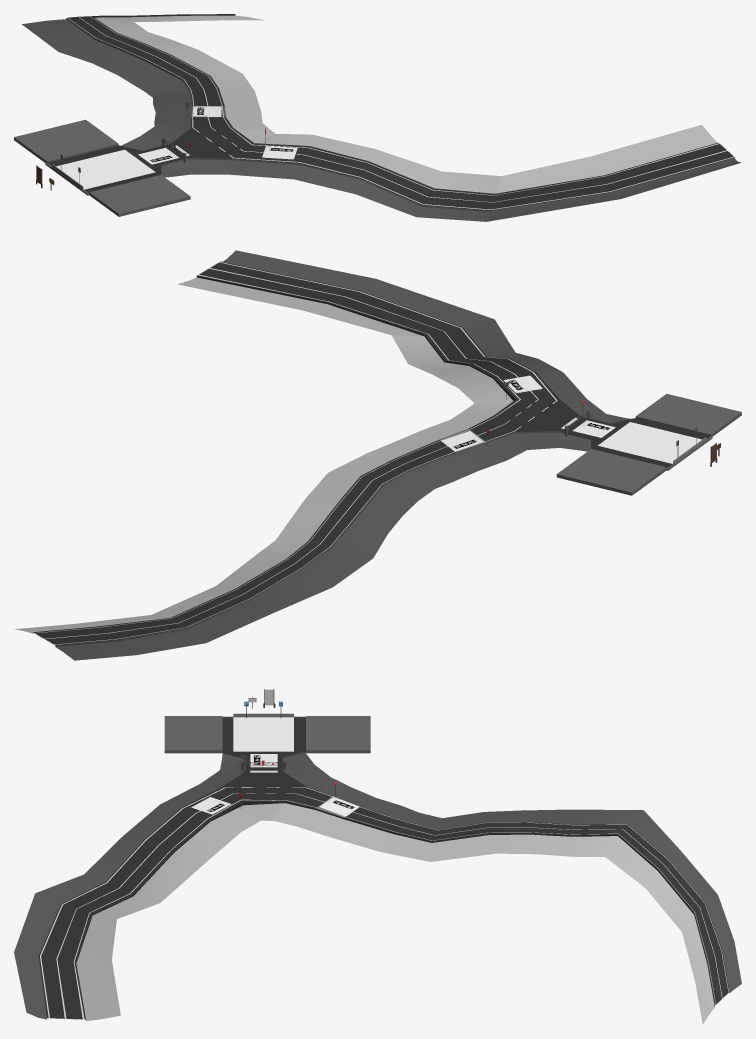
Rendered from base_vila.fbx.
The picture shows the model from 3 angles, top to bottom: view 1: azimuth 30°, elevation 25°; view 2: azimuth 150°, elevation 25°; view 3: azimuth 270°, elevation 25°; orthographic projection. The views are drawn at different scales.
Parts seen in each view (by area): view 1: polySurface8, polySurface2, polySurface12, polySurface4; view 2: polySurface8, polySurface2; view 3: polySurface8, polySurface2.
Part boxes in pixels (x1,y1,x2,y2): polySurface8: (14, 14, 741, 221); polySurface2: (56, 149, 155, 189); polySurface12: (262, 146, 297, 159); polySurface4: (138, 147, 179, 164); polySurface8: (15, 250, 741, 660); polySurface2: (598, 422, 701, 463); polySurface8: (14, 713, 741, 1024); polySurface2: (233, 717, 293, 751).
Size of the model in its own units: 80.03 by 16.21 by 87.36.
